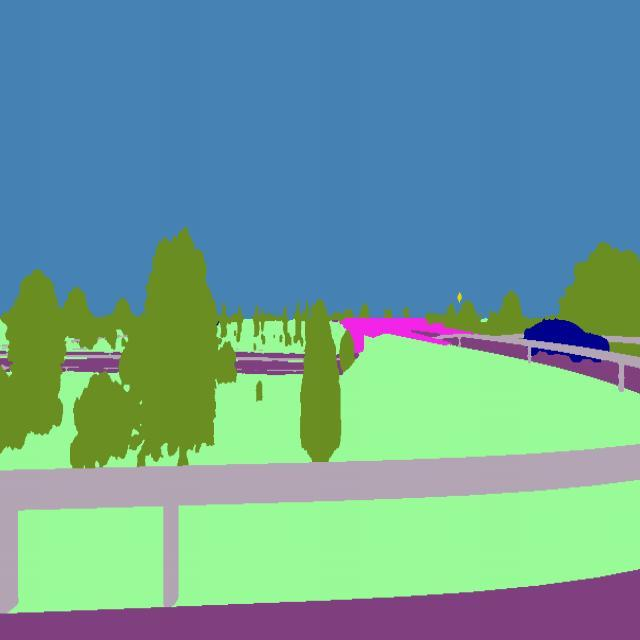safe: (522, 313, 613, 368)
